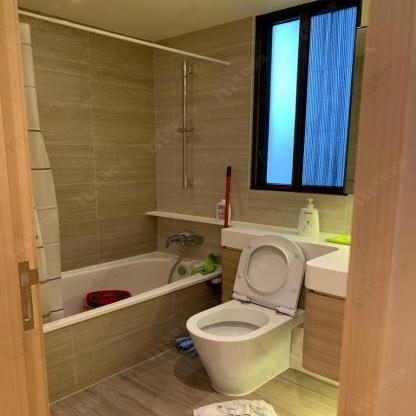Bathtub: (37, 251, 223, 405)
Toilet: (187, 236, 305, 395)
